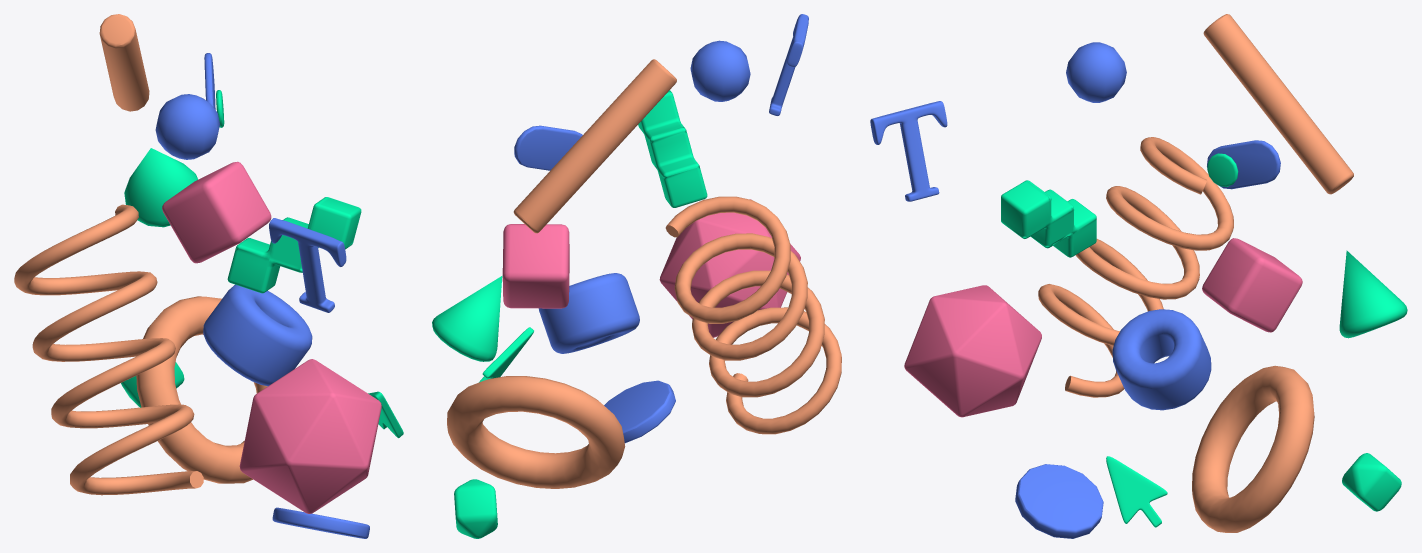
File: Hero.glb
3 renders of one model, left to right at view 1: azimuth 30°, elevation 25°; view 2: azimuth 150°, elevation 25°; view 3: azimuth 270°, elevation 25°, orthographic. The views are drawn at different scales.
Parts seen in each view (by area): view 1: Spiral, Icosphere, Tube, Torus, Cube, Pixels, Cylinder, Sphere, Cone, Text, Coin, Button (+2 smaller); view 2: Spiral, Torus, Cylinder, Icosphere, Cube, Tube, Pixels, Cone, Sphere, Coin, PolySphere, Button (+2 smaller); view 3: Spiral, Icosphere, Torus, Tube, Cylinder, Cube, Coin, Pixels, Cone, Button, Sphere, Text (+2 smaller).
Part boxes in pixels (x1=…): Spiral: x1=14, y1=204, x2=203, y2=495; Icosphere: x1=239, y1=359, x2=381, y2=513; Tube: x1=203, y1=284, x2=312, y2=386; Torus: x1=136, y1=296, x2=267, y2=483; Cube: x1=162, y1=161, x2=271, y2=263; Pixels: x1=227, y1=197, x2=361, y2=293; Cylinder: x1=99, y1=14, x2=149, y2=111; Sphere: x1=155, y1=94, x2=219, y2=159; Cone: x1=124, y1=148, x2=197, y2=227; Text: x1=269, y1=218, x2=346, y2=312; Coin: x1=272, y1=507, x2=369, y2=538; Button: x1=204, y1=53, x2=224, y2=127; Spiral: x1=665, y1=196, x2=841, y2=434; Torus: x1=447, y1=376, x2=625, y2=488; Cylinder: x1=513, y1=59, x2=676, y2=233; Icosphere: x1=659, y1=199, x2=800, y2=337; Cube: x1=502, y1=224, x2=569, y2=308; Tube: x1=538, y1=273, x2=639, y2=353; Pixels: x1=638, y1=90, x2=707, y2=207; Cone: x1=432, y1=276, x2=502, y2=361; Sphere: x1=690, y1=40, x2=750, y2=101; Coin: x1=604, y1=380, x2=675, y2=443; PolySphere: x1=454, y1=479, x2=497, y2=538; Button: x1=514, y1=125, x2=582, y2=170; Spiral: x1=1038, y1=137, x2=1233, y2=397; Icosphere: x1=904, y1=285, x2=1041, y2=417; Torus: x1=1192, y1=365, x2=1314, y2=532; Tube: x1=1112, y1=309, x2=1211, y2=410; Cylinder: x1=1203, y1=14, x2=1353, y2=194; Cube: x1=1202, y1=238, x2=1302, y2=332; Coin: x1=1015, y1=464, x2=1103, y2=538; Pixels: x1=1001, y1=180, x2=1096, y2=257; Cone: x1=1339, y1=250, x2=1407, y2=338; Button: x1=1207, y1=140, x2=1280, y2=189; Sphere: x1=1066, y1=42, x2=1126, y2=102; Text: x1=870, y1=101, x2=947, y2=201.
Bounding box in the file's own units: 5.11 × 6.86 × 7.29.
